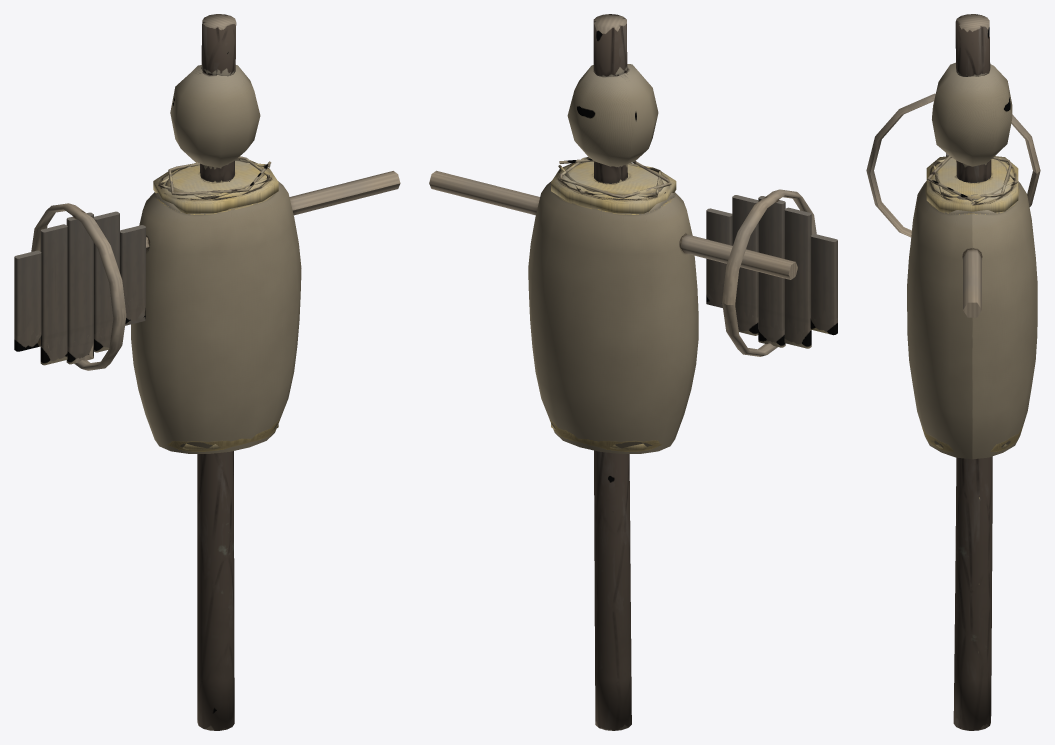
The model's file is SM_Camp_TargetDummy.fbx.
3 views of the same model, side by side, from view 1: azimuth 30°, elevation 25°; view 2: azimuth 150°, elevation 25°; view 3: azimuth 270°, elevation 25° (orthographic).
Parts seen in each view (by area): view 1: SM_Camp_TargetDummy; view 2: SM_Camp_TargetDummy; view 3: SM_Camp_TargetDummy.
Part boxes in pixels (x1,y1,x2,y2): SM_Camp_TargetDummy: (14, 14, 400, 730); SM_Camp_TargetDummy: (429, 14, 837, 730); SM_Camp_TargetDummy: (866, 14, 1040, 730).
Size of the model in its own units: 120 by 46 by 205.
